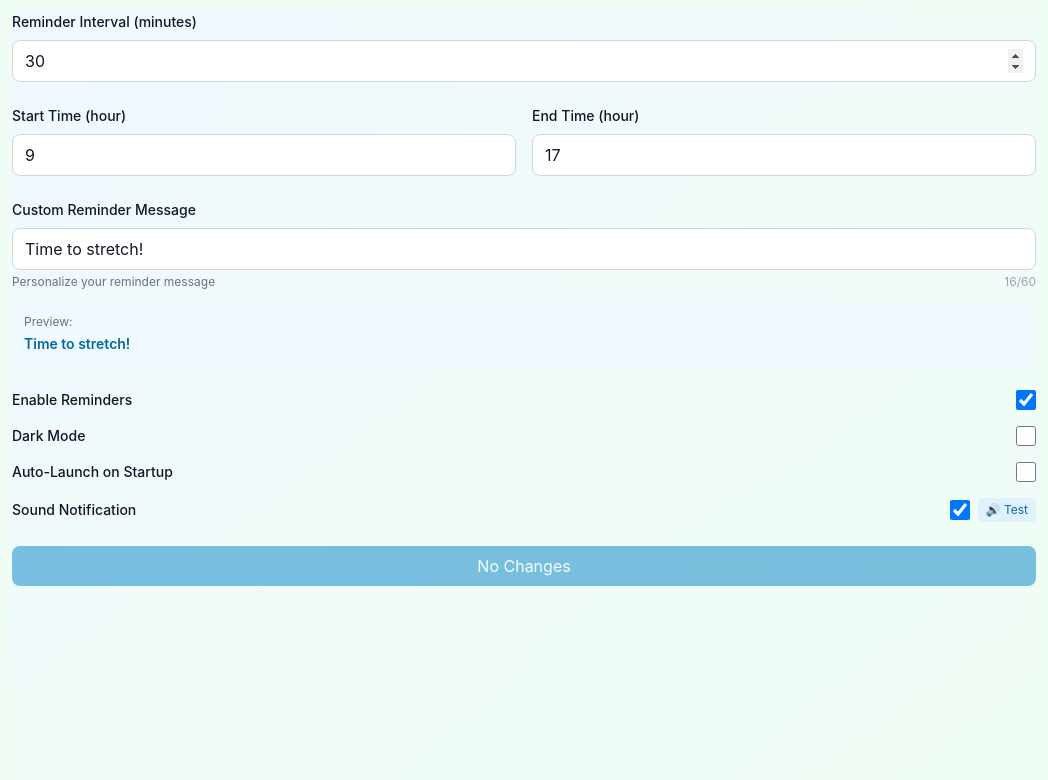
Test: SettingsForm › should show message preview when typing
Type "Test Message" into the field labelled "Custom Reminder Message" at (524, 249), box [12,228,1036,270]
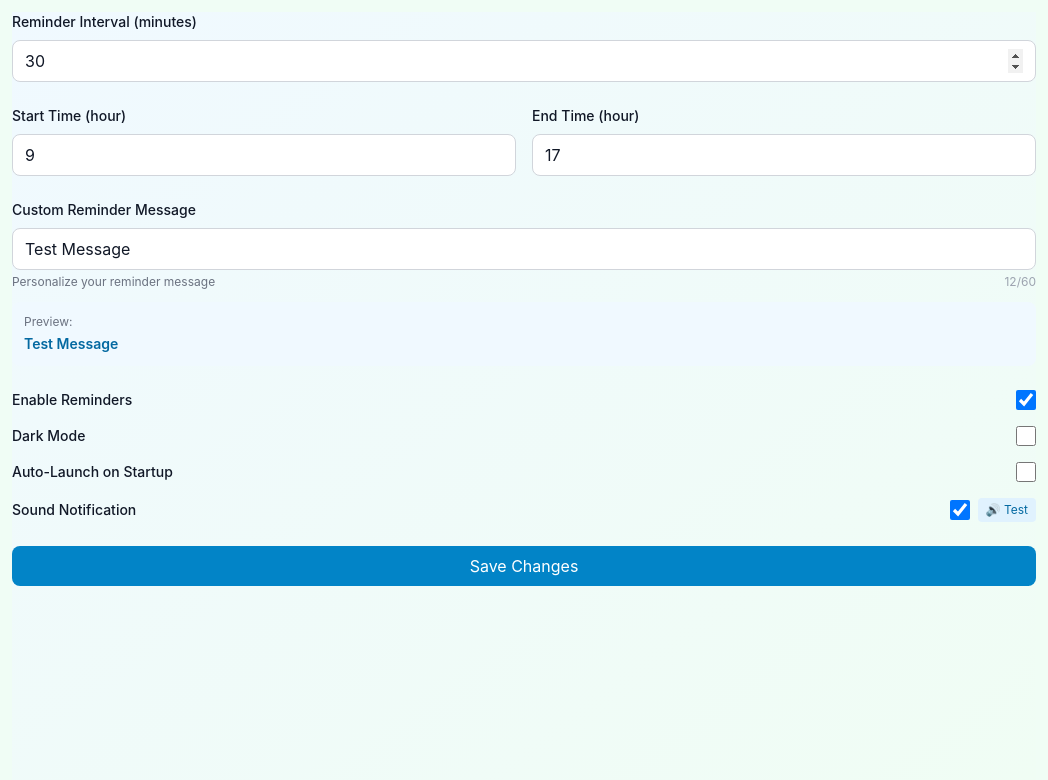
Expected: the text "Preview:" is shown, [24,314,72,329]
Now the text "Test Message" is shown, box [24,335,118,352]
